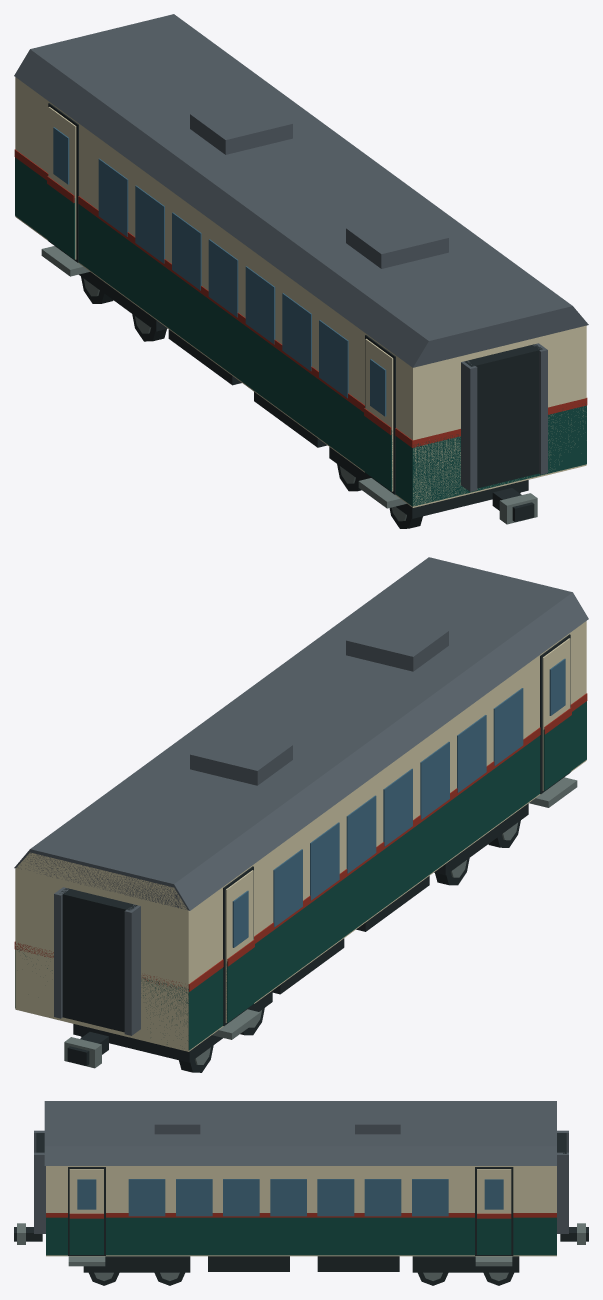
The model's file is RegionalCoach.fbx.
The picture shows the model from 3 angles, top to bottom: view 1: azimuth 30°, elevation 25°; view 2: azimuth 150°, elevation 25°; view 3: azimuth 270°, elevation 25°; orthographic projection. The views are drawn at different scales.
Parts seen in each view (by area): view 1: Faceted gray roof.001, Lower green body.001, Cream car shell.001, Gangway -5.001, Roof equipment -2.001, Roof equipment 1.001, Continuous red belt.001, Gangway fold -5.43 -0.001, Passenger window -1 2.001, Passenger window -1 3.001, Passenger window -1 6.001, Passenger window -1 1.001 (+18 smaller); view 2: Faceted gray roof.001, Cream car shell.001, Lower green body.001, Gangway 5.43, Roof equipment -2.001, Roof equipment 1.001, Gangway fold 5.43 -0.55, Continuous red belt.001, Passenger window -1 4.001, Passenger window -1 0.001, Passenger window -1 5.001, Passenger window -1 1.001 (+17 smaller); view 3: Faceted gray roof.001, Lower green body.001, Cream car shell.001, Bogie -3.001, Roof equipment -2.001, Bogie 3.001, Roof equipment 1.001, Passenger window 1 4.001, Passenger window 1 0.001, Passenger window 1 5.001, Continuous red belt.001, Passenger window 1 1.001 (+17 smaller).
Part boxes in pixels (x1,y1,x2,y2): Faceted gray roof.001: (14,14,588,367); Lower green body.001: (15,157,586,506); Cream car shell.001: (15,77,586,507); Gangway -5.001: (464,344,542,488); Roof equipment -2.001: (346,212,448,268); Roof equipment 1.001: (190,97,292,154); Continuous red belt.001: (14,149,587,447); Gangway fold -5.43 -0.001: (461,361,477,491); Passenger window -1 2.001: (245,266,275,344); Passenger window -1 3.001: (208,239,238,317); Passenger window -1 6.001: (98,158,128,236); Passenger window -1 1.001: (282,293,311,370); Faceted gray roof.001: (14,557,588,910); Cream car shell.001: (15,621,586,1051); Lower green body.001: (15,701,586,1050); Gangway 5.43: (59,888,137,1032); Roof equipment -2.001: (346,614,448,671); Roof equipment 1.001: (190,728,292,785); Gangway fold 5.43 -0.55: (124,904,140,1035); Continuous red belt.001: (14,693,587,991); Passenger window -1 4.001: (346,795,376,873); Passenger window -1 0.001: (493,688,523,765); Passenger window -1 5.001: (310,822,339,900); Passenger window -1 1.001: (457,715,486,792); Faceted gray roof.001: (44,1101,556,1165); Lower green body.001: (46,1217,556,1255); Cream car shell.001: (46,1166,556,1256); Bogie -3.001: (83,1256,190,1272); Roof equipment -2.001: (154,1103,200,1134); Bogie 3.001: (412,1256,519,1272); Roof equipment 1.001: (355,1103,400,1134); Passenger window 1 4.001: (317,1179,354,1216); Passenger window 1 0.001: (128,1179,165,1216); Passenger window 1 5.001: (364,1179,401,1216); Continuous red belt.001: (46,1213,556,1217); Passenger window 1 1.001: (176,1179,212,1216).
Size of the model in its own units: 2.96 by 3.58 by 12.06.
